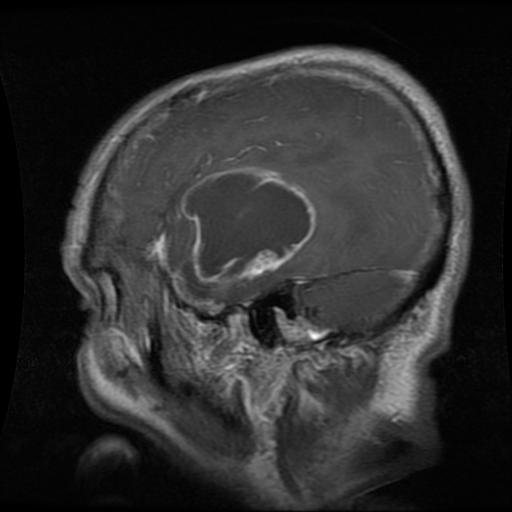Gliomia_tumour: (182, 166, 316, 278)
